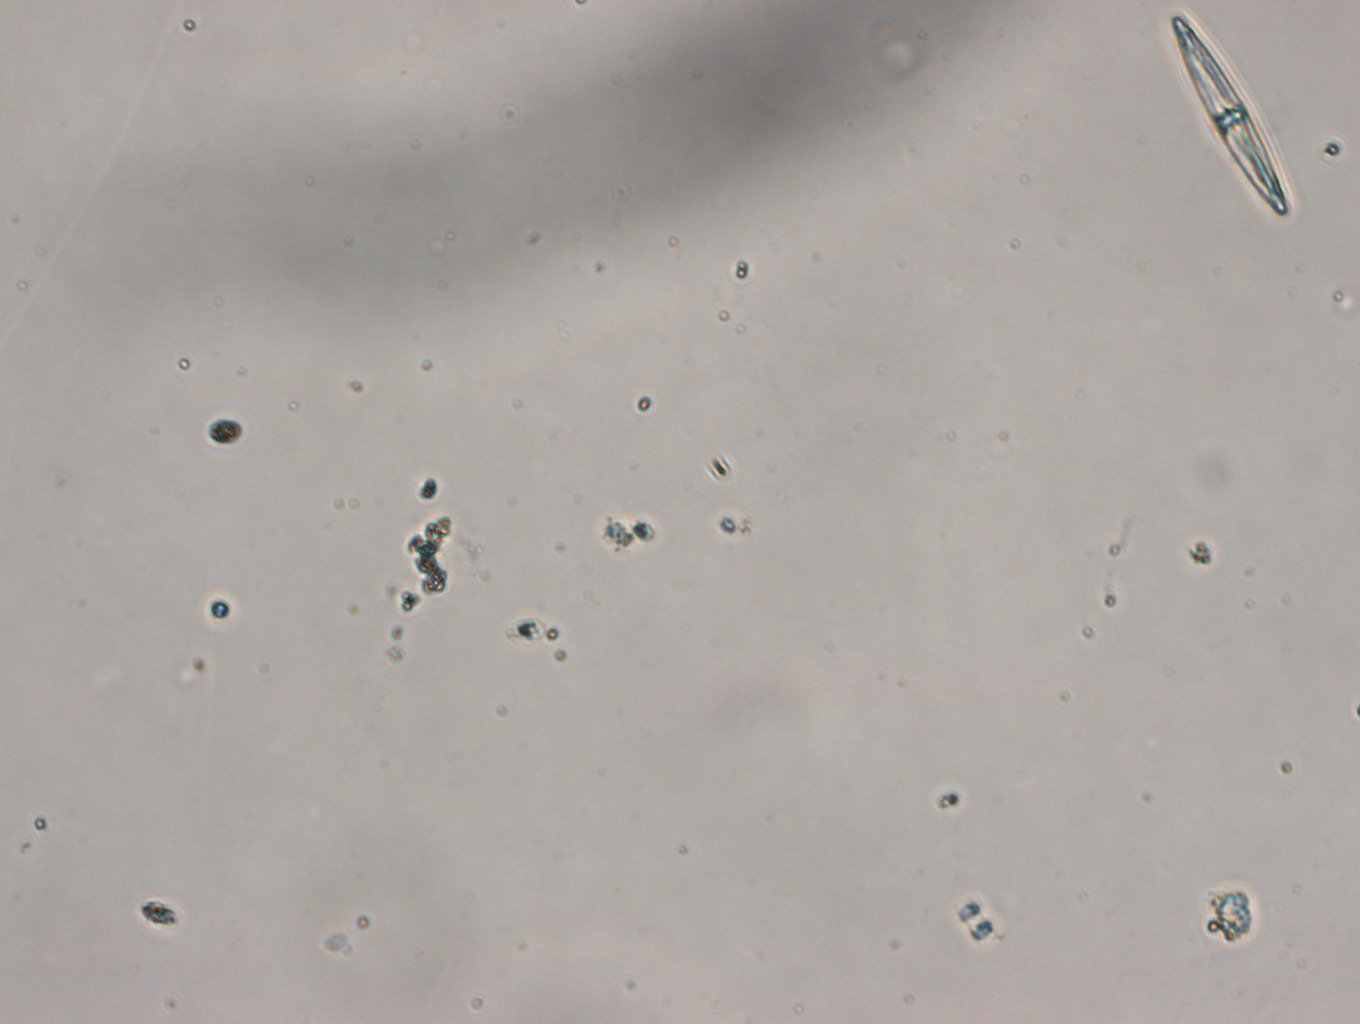navicula: (1168, 13, 1291, 218)
